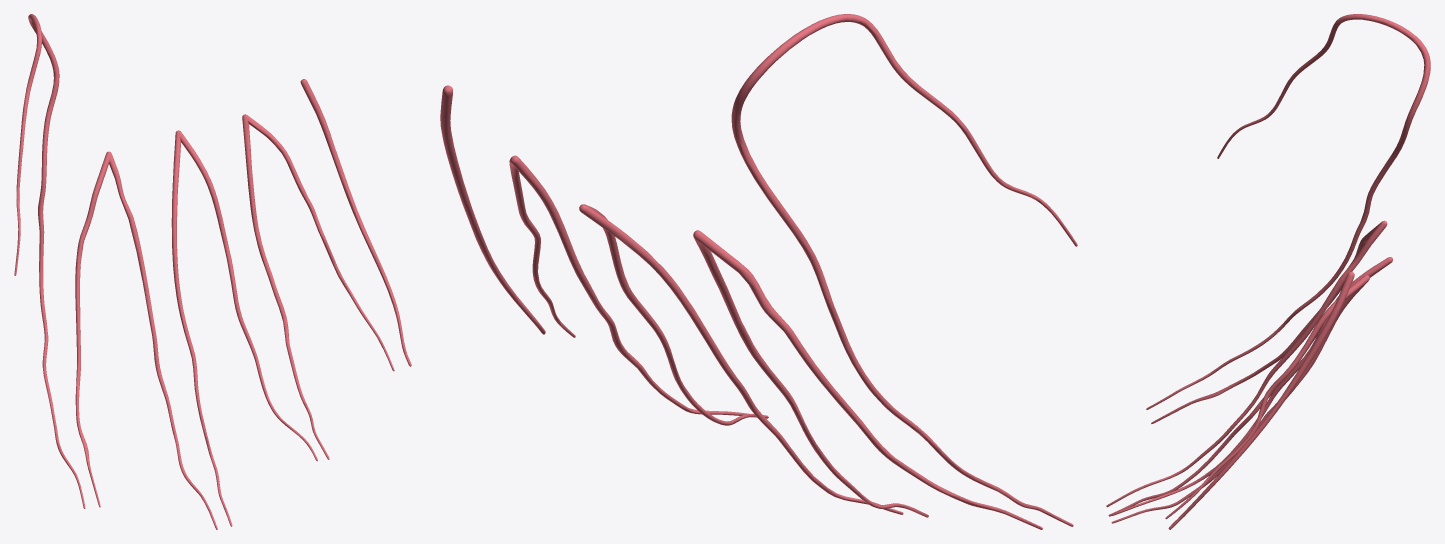
Rendered from fma70801_fj2346.glb.
3 renders of one model, left to right at view 1: azimuth 30°, elevation 25°; view 2: azimuth 150°, elevation 25°; view 3: azimuth 270°, elevation 25°, orthographic. The views are drawn at different scales.
Parts seen in each view (by area): view 1: FMA70801_FJ2346; view 2: FMA70801_FJ2346; view 3: FMA70801_FJ2346.
Part boxes in pixels (left/top/right/bottom): FMA70801_FJ2346: left=14, top=14, right=411, bottom=529; FMA70801_FJ2346: left=440, top=14, right=1077, bottom=529; FMA70801_FJ2346: left=1106, top=14, right=1430, bottom=529.
Bounding box in the file's own units: 0.1037 × 0.113 × 0.0718.
